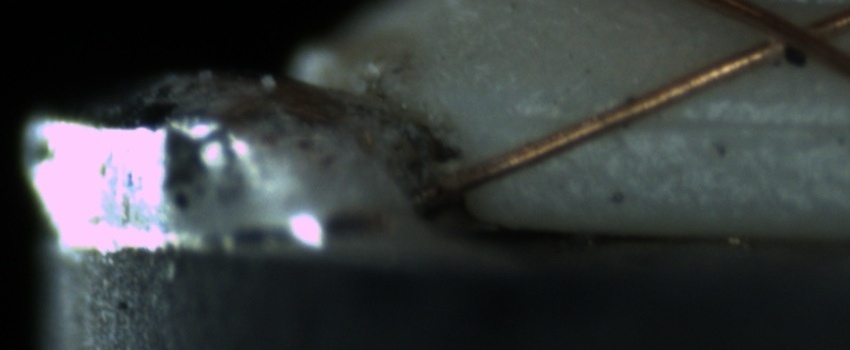CL: (739, 0, 842, 70)
DL: (516, 88, 847, 155)
